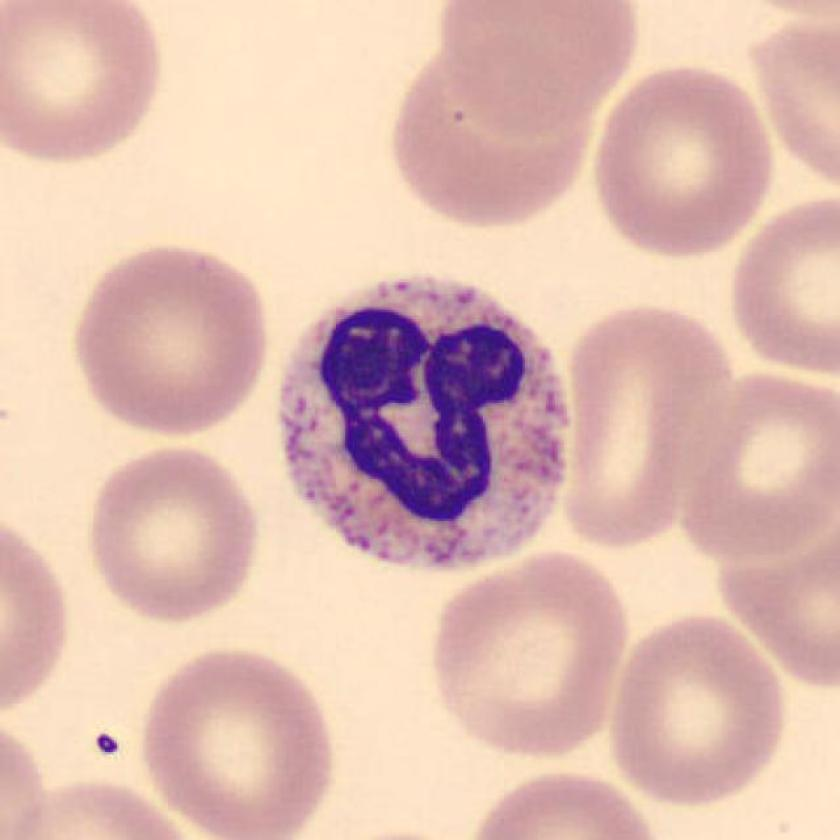neutrophil: (278, 278, 569, 571)
